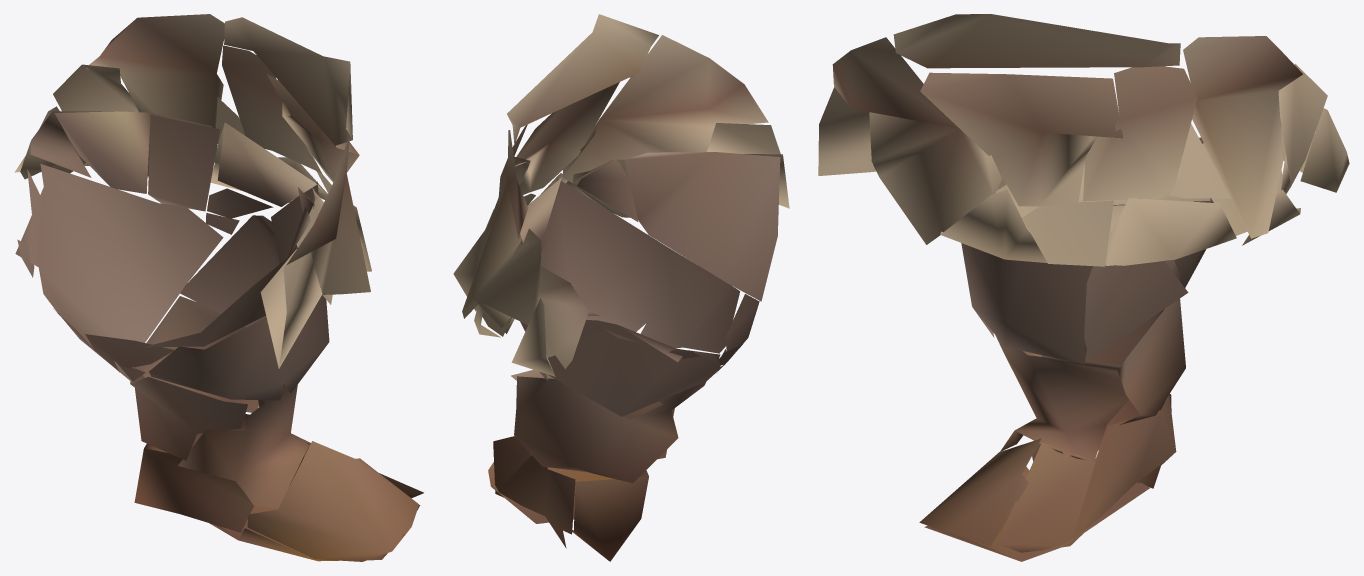
File: villager-legL-lo-vc.glb
3 renders of one model, left to right at view 1: azimuth 30°, elevation 25°; view 2: azimuth 150°, elevation 25°; view 3: azimuth 270°, elevation 25°, orthographic. The views are drawn at different scales.
Parts seen in each view (by area): view 1: villager_legL.001; view 2: villager_legL.001; view 3: villager_legL.001.
Boxes of the visible parts, x1,y1,x2,y2 form: villager_legL.001: [14, 14, 423, 561]; villager_legL.001: [453, 14, 789, 561]; villager_legL.001: [818, 14, 1349, 561].
Size of the model in its own units: 0.2458 by 0.3738 by 0.353.
